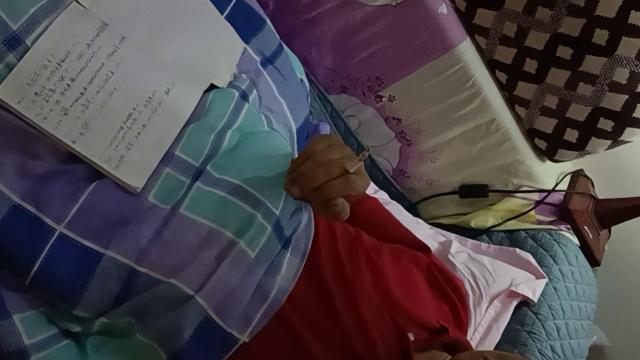Smoking: (342, 152, 368, 178)
